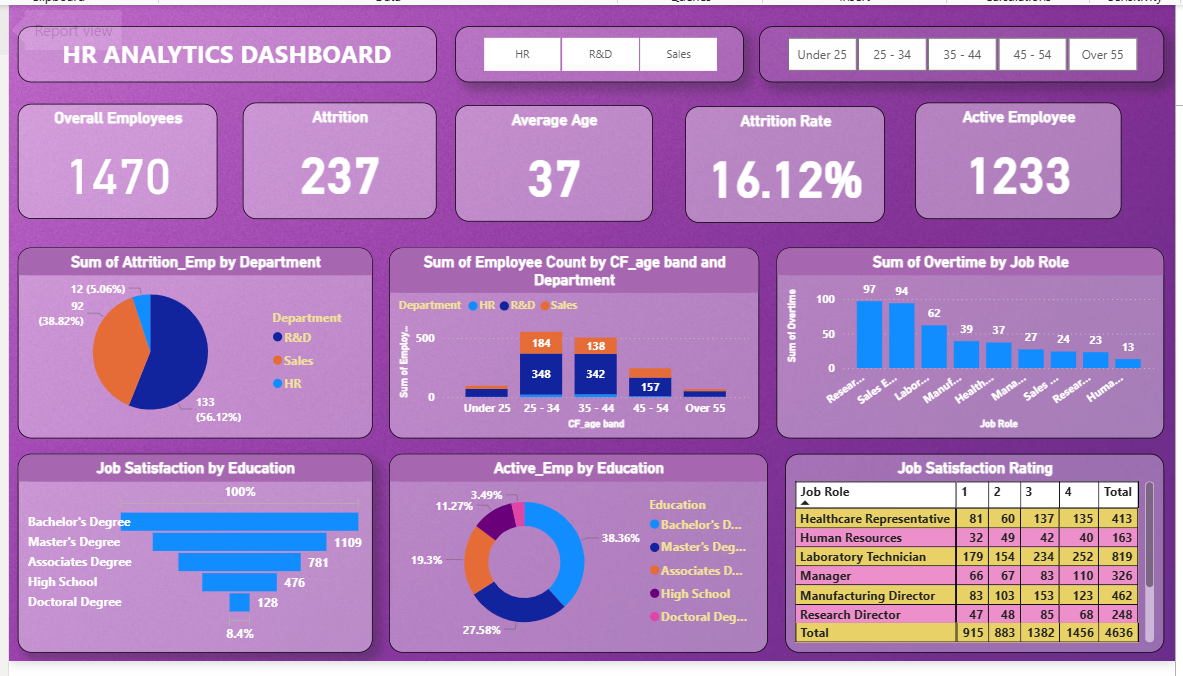

This screenshot's page, from the dashboard's own definition file:
{"tool":"powerbi","page":{"name":"Page 1","canvas":[1280,720],"ordinal":0},"visuals":[{"type":"card","title":"Overall Employees","fields":{"Values":["Sum(HR data.Employee Count)"]},"box":[9.6,108.4,219.6,126.2],"z":0},{"type":"card","title":"Attrition","fields":{"Values":["Sum(HR data.Attrition_Emp)"]},"box":[256.6,107,212.7,127.6],"z":1000},{"type":"card","title":"Average Age","fields":{"Values":["HR data.Average Age"]},"box":[489.9,109.8,216.8,127.6],"z":2000},{"type":"card","title":"Attrition Rate","fields":{"Values":["HR data.Attrition_rate"]},"box":[742.4,111.1,219.6,127.6],"z":3000},{"type":"card","title":"Active Employee","fields":{"Values":["HR data.Active_Emp"]},"box":[994.9,107,226.4,127.6],"z":4000},{"type":"textbox","box":[9.6,23.3,459.7,61.7],"z":5000},{"type":"pieChart","fields":{"Y":["Sum(HR data.Attrition_Emp)"],"Category":["HR data.Department"]},"box":[9.6,266.2,389.7,209.9],"z":6000},{"type":"columnChart","fields":{"Category":["HR data.CF_age band"],"Y":["Sum(HR data.Employee Count)"],"Series":["HR data.Department"]},"box":[417.2,266.2,406.2,209.9],"z":7000},{"type":"columnChart","fields":{"Y":["Sum(HR data.Overtime)"],"Category":["HR data.Job Role"]},"box":[842.5,266.2,425.4,209.9],"z":8000},{"type":"donutChart","fields":{"Y":["HR data.Active_Emp"],"Category":["HR data.Education"]},"box":[417.2,492.6,415.8,218.2],"z":9000},{"type":"pivotTable","title":"Job Satisfaction Rating","fields":{"Values":["Sum(HR data.Performance Rating)"],"Rows":["HR data.Job Role"],"Columns":["HR data.Job Satisfaction"]},"box":[852.1,492.6,415.8,218.2],"z":10000},{"type":"slicer","fields":{"Values":["HR data.Department"]},"box":[489.9,23.3,317,61.7],"z":11000},{"type":"slicer","fields":{"Values":["HR data.CF_age band"]},"box":[823.3,23.3,444.6,61.7],"z":12000},{"type":"funnel","title":"Job Satisfaction by Education","fields":{"Category":["HR data.Education"],"Y":["Sum(HR data.Job Satisfaction)"]},"box":[9.6,492.6,389.7,218.2],"z":13000}]}

Visuals, with their boxes on the page's 1280x720 design canvas (x1, y1, x2, y2). These are canvas units, not pixel positions in the 1183x676 screenshot, which may show the page scaled, cropped or inside an application window:
"Overall Employees" card: [left=10, top=108, right=229, bottom=235]
"Attrition" card: [left=257, top=107, right=469, bottom=235]
"Average Age" card: [left=490, top=110, right=707, bottom=237]
"Attrition Rate" card: [left=742, top=111, right=962, bottom=239]
"Active Employee" card: [left=995, top=107, right=1221, bottom=235]
textbox: [left=10, top=23, right=469, bottom=85]
pieChart - Sum(HR data.Attrition_Emp) x HR data.Department: [left=10, top=266, right=399, bottom=476]
columnChart - HR data.CF_age band x Sum(HR data.Employee Count): [left=417, top=266, right=823, bottom=476]
columnChart - Sum(HR data.Overtime) x HR data.Job Role: [left=842, top=266, right=1268, bottom=476]
donutChart - HR data.Active_Emp x HR data.Education: [left=417, top=493, right=833, bottom=711]
"Job Satisfaction Rating" pivotTable: [left=852, top=493, right=1268, bottom=711]
slicer - HR data.Department: [left=490, top=23, right=807, bottom=85]
slicer - HR data.CF_age band: [left=823, top=23, right=1268, bottom=85]
"Job Satisfaction by Education" funnel: [left=10, top=493, right=399, bottom=711]
